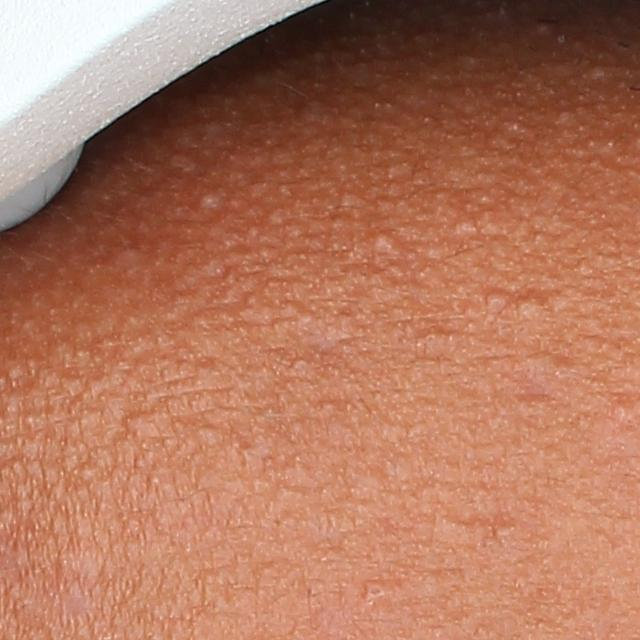comedo: (472, 288, 514, 310), (192, 186, 221, 217), (370, 226, 400, 253), (361, 580, 389, 606), (519, 291, 544, 317)
